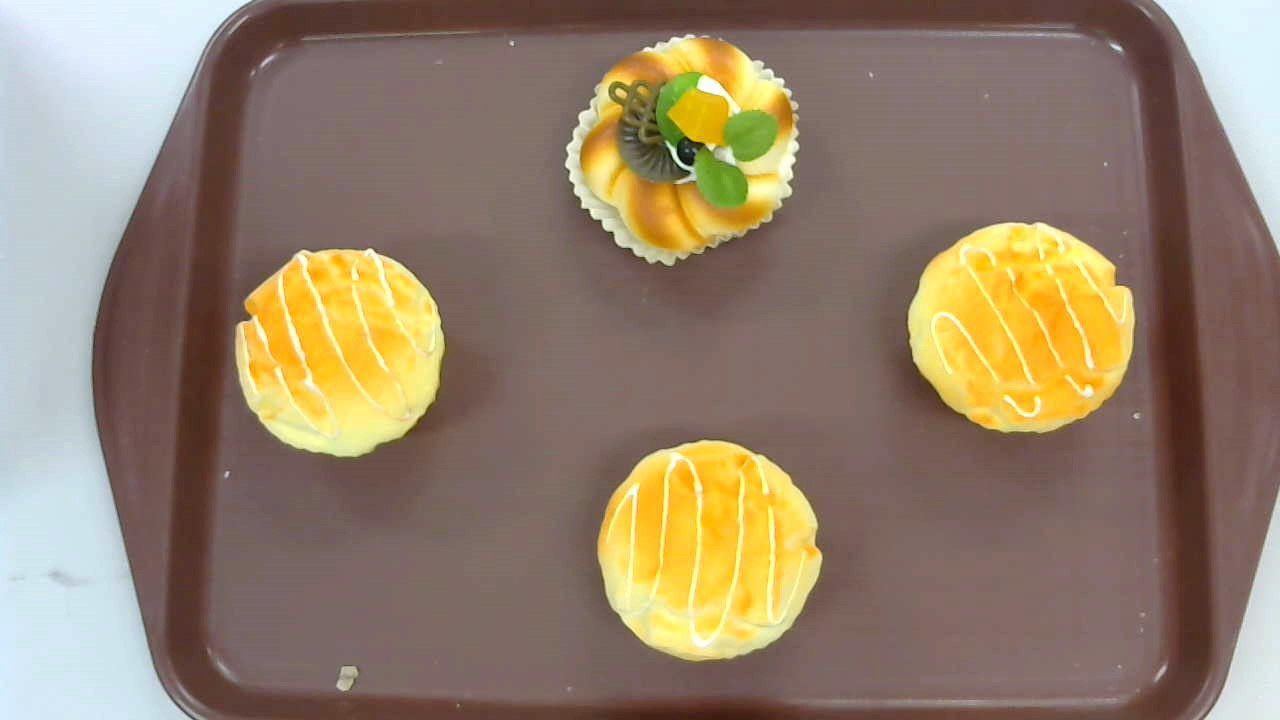cupcake: (597, 439, 823, 664), (906, 220, 1137, 434), (235, 245, 445, 459)
fruit tart: (565, 32, 803, 266)
